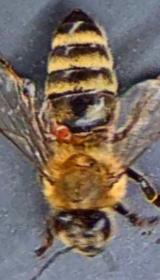varroa_mite: (43, 109, 77, 146)
